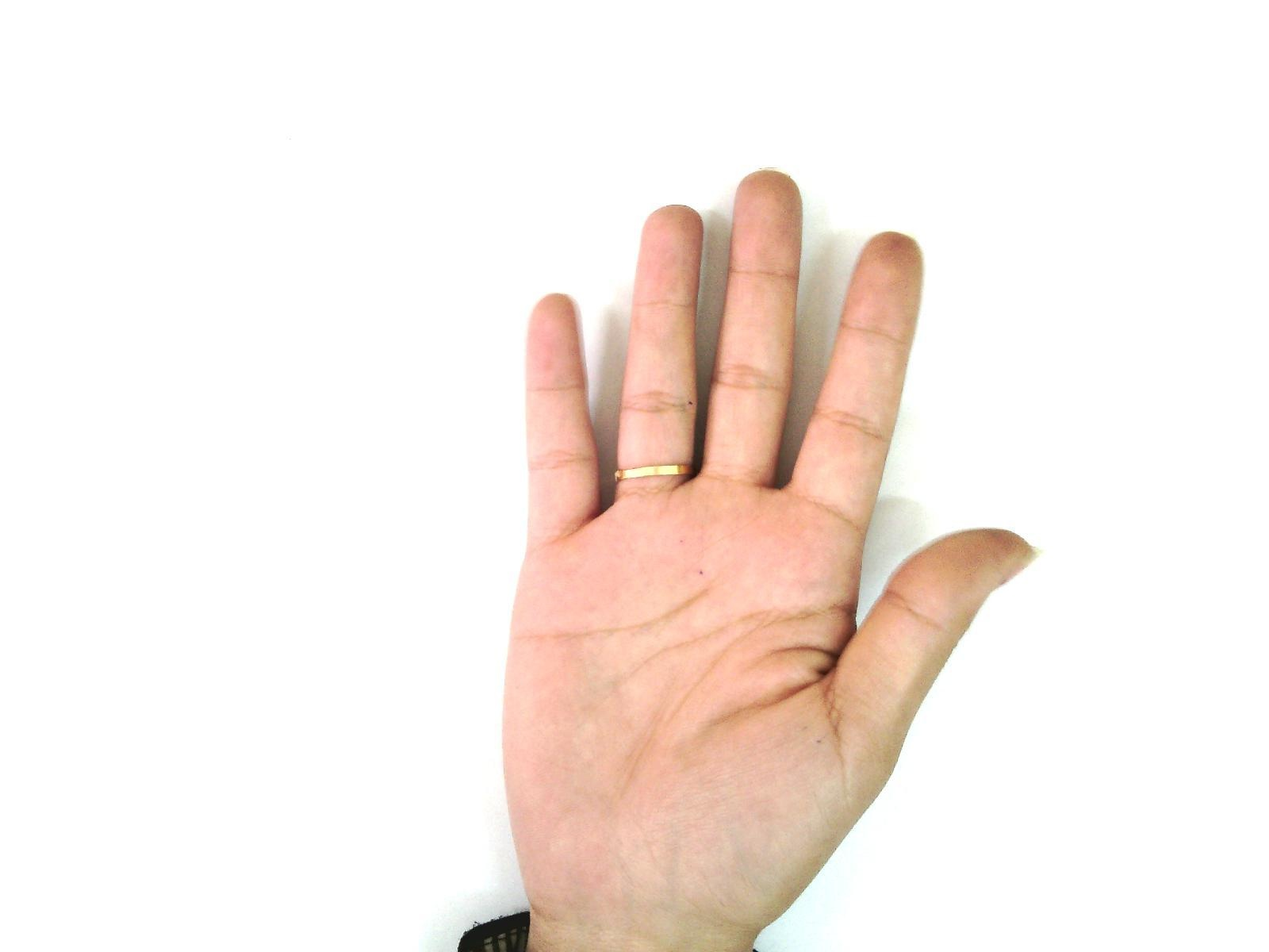open_palm: (495, 168, 1040, 950)
